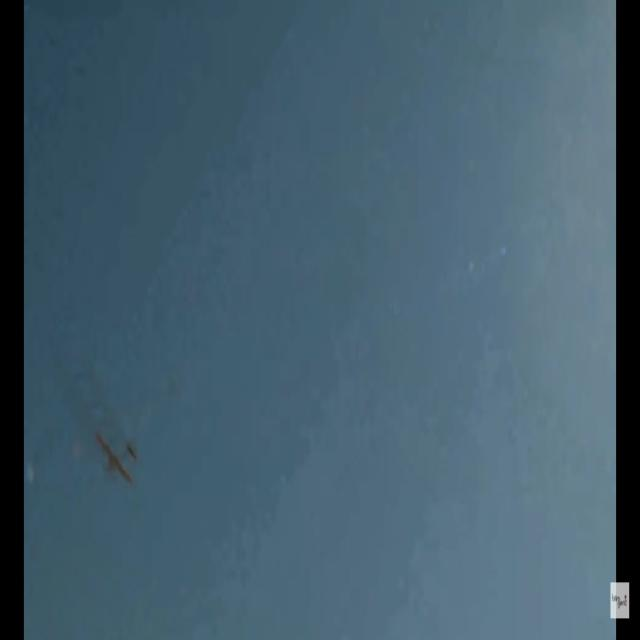iha: (29, 452, 74, 456)
